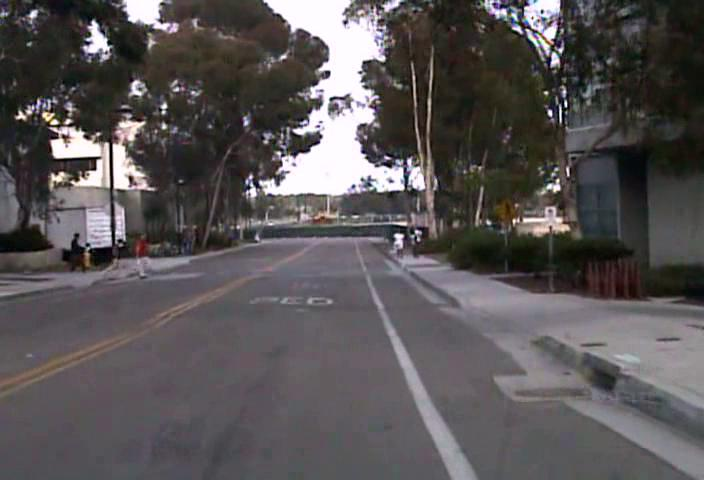pedestrianCrossing: (494, 196, 519, 227)
